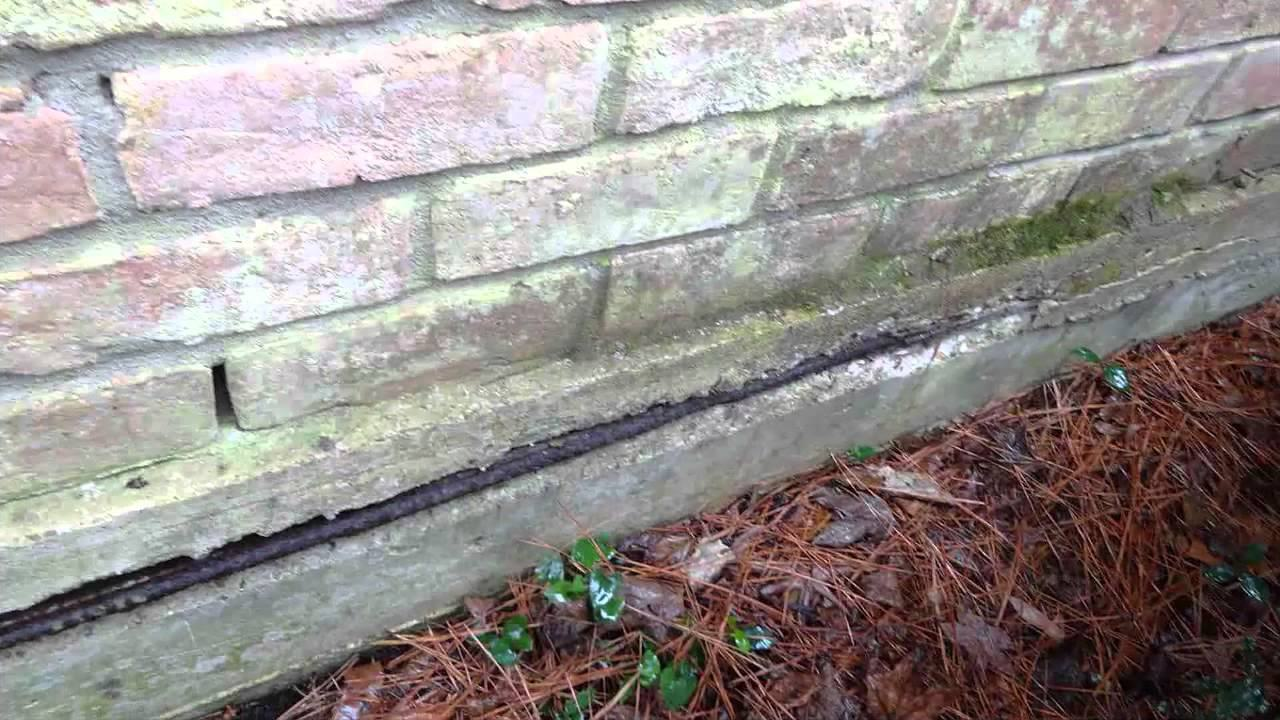Exposed reinforcement: (1, 300, 1042, 657)
